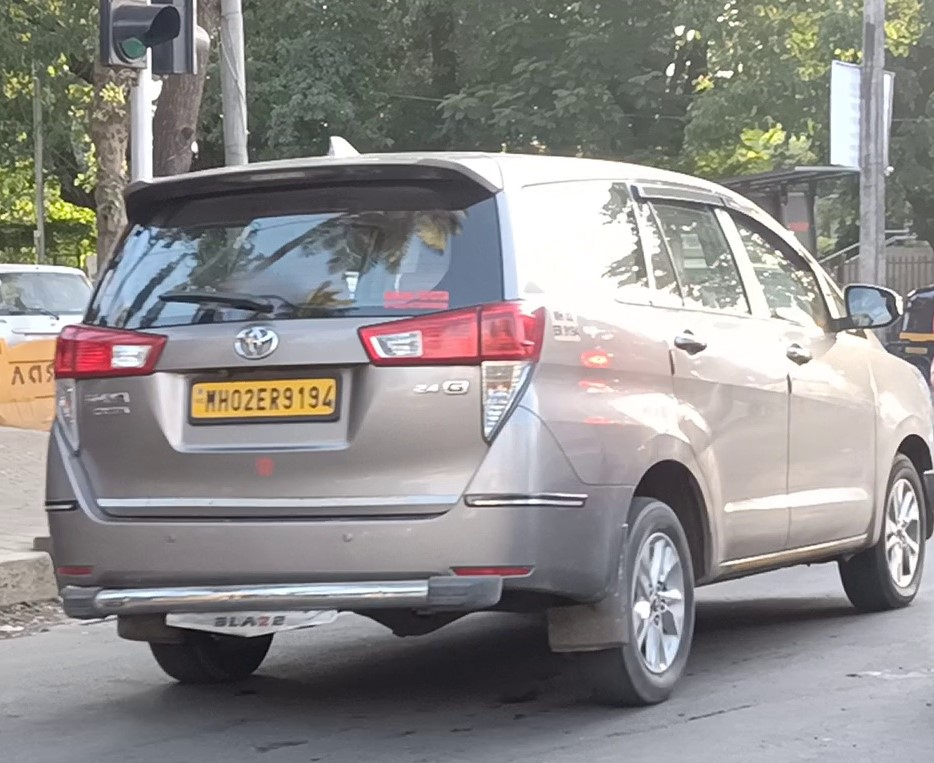MH02ER9194: (189, 376, 338, 414)
